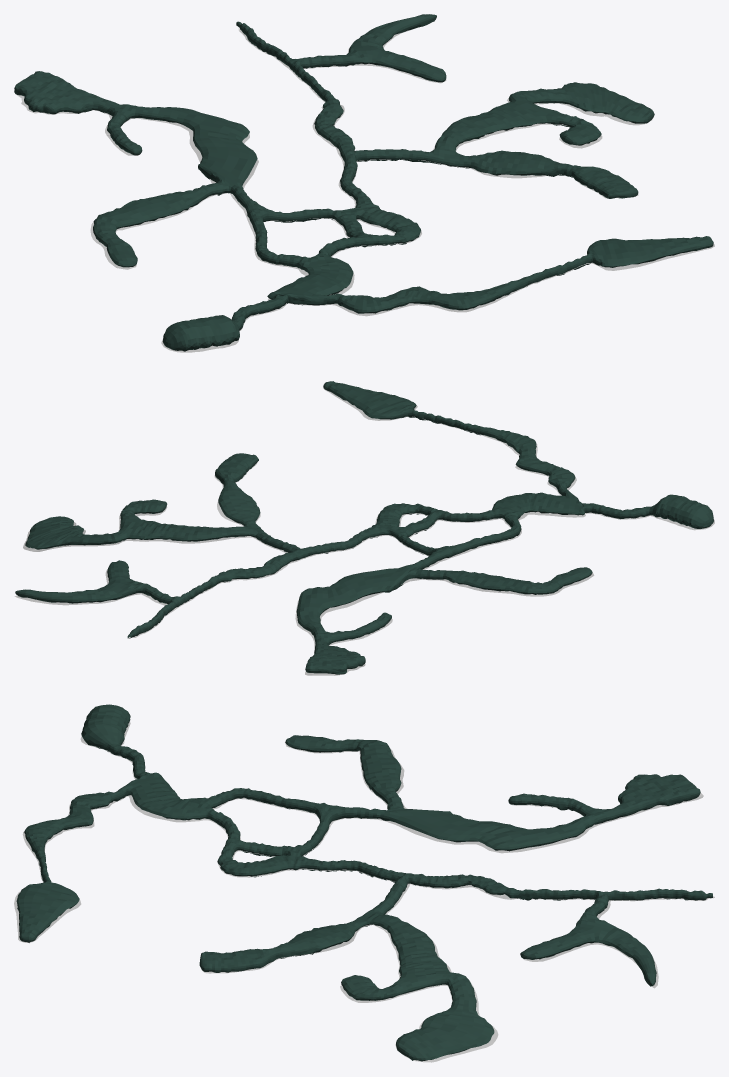
File: CaveTextFloor.fbx
3 renders of one model, top to bottom at view 1: azimuth 30°, elevation 25°; view 2: azimuth 150°, elevation 25°; view 3: azimuth 270°, elevation 25°, orthographic. The views are drawn at different scales.
Parts seen in each view (by area): view 1: Cube.001, Cube; view 2: Cube.001, Cube; view 3: Cube.001, Cube.
Boxes of the visible parts, x1,y1,x2,y2 form: Cube.001: [14, 14, 713, 351]; Cube: [14, 26, 714, 352]; Cube.001: [15, 381, 713, 674]; Cube: [14, 387, 714, 675]; Cube.001: [16, 704, 712, 1061]; Cube: [14, 721, 714, 1062].
Bounding box in the file's own units: 40197 × 3784 × 38843.
